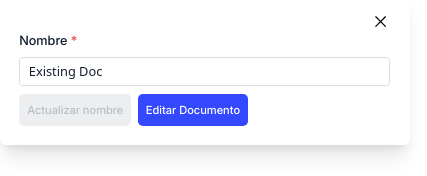
it: UseDocumentByClient.vue › 'Actualizar nombre' becomes enabled when title is changed
Replace the text in the field with id "document-name" with "New Title" at (205, 71), box [19,57,390,86]
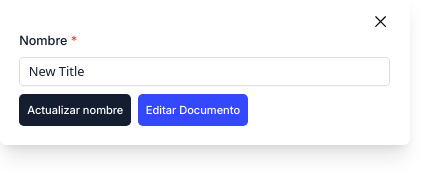
Now the button "Actualizar nombre" is enabled, box [19,94,131,126]
